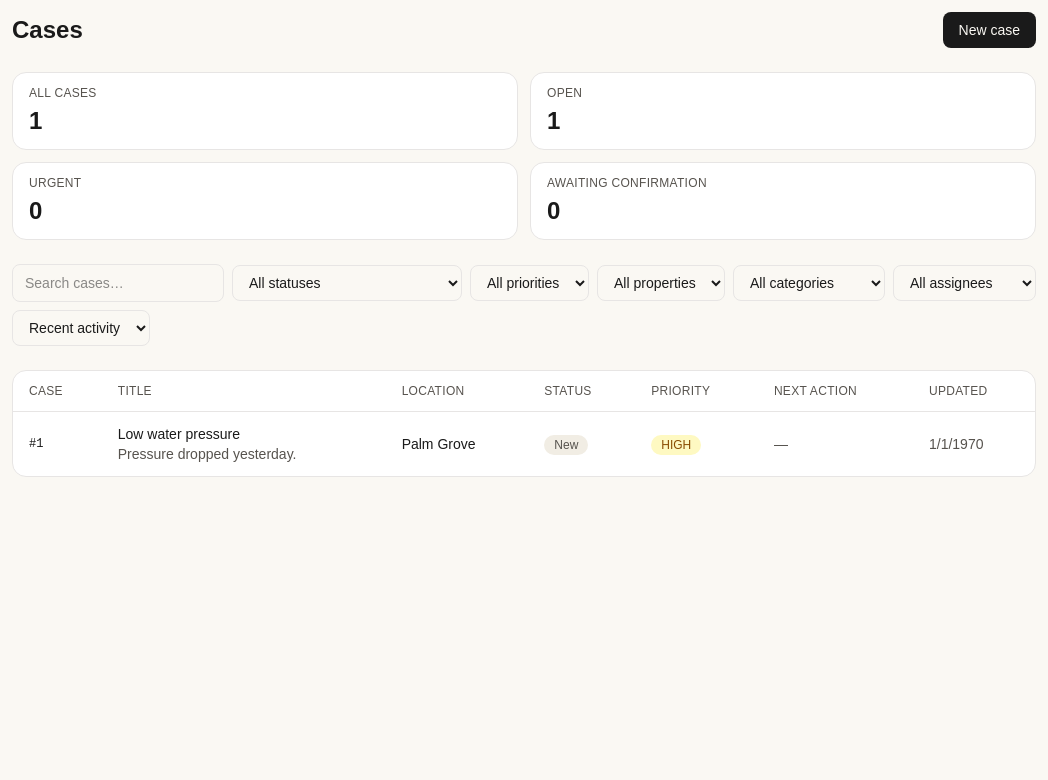
Test: CasesPage › renders clear-filters state when filters exclude all
The image size is (1048, 780).
Expected: the text "Low water pressure" is shown, [118,426,240,442]
Select "TRIAGED" in the dropdown named "Filter by status" at (347, 283), box [232,265,462,301]
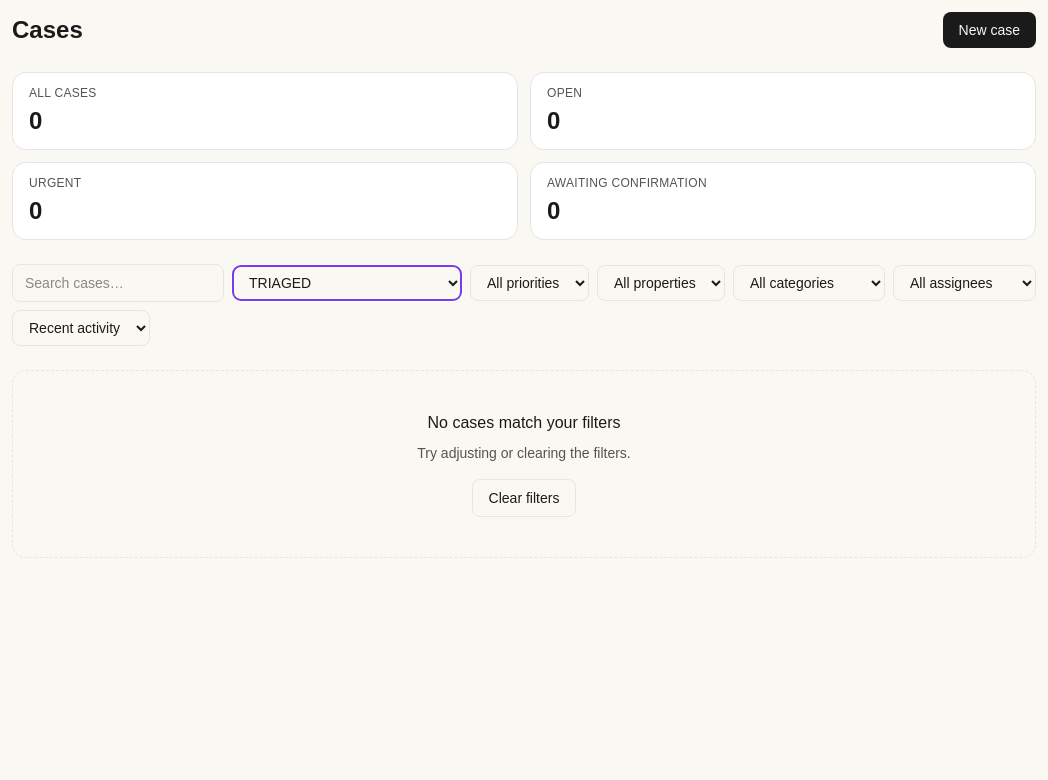
Result: the text "No cases match your filters" is shown at [428,411,620,435]
Result: the button "Clear filters" is shown at [472,479,576,517]
